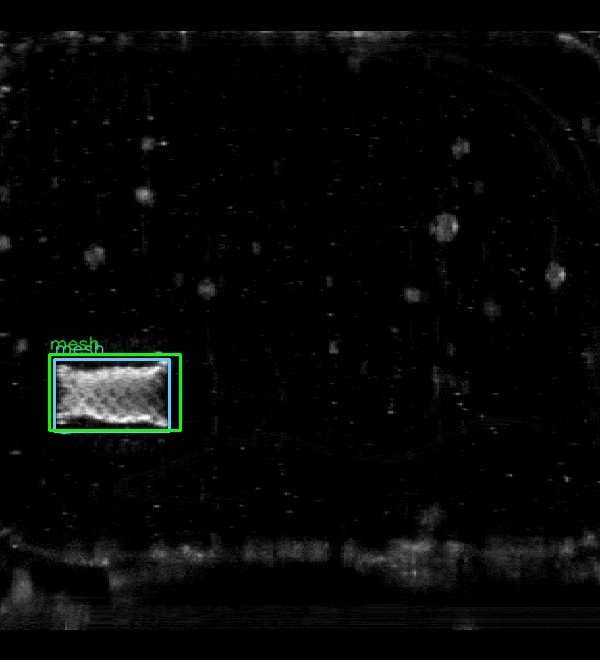mesh: (54, 359, 169, 431)
